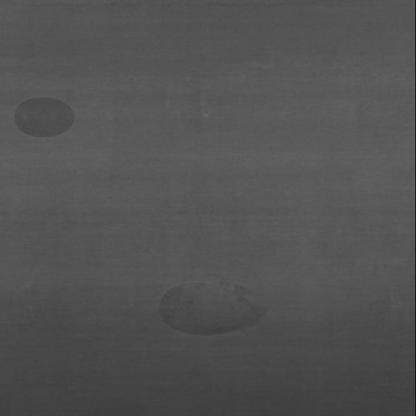oil_spot: (151, 279, 282, 339), (12, 96, 87, 140)
